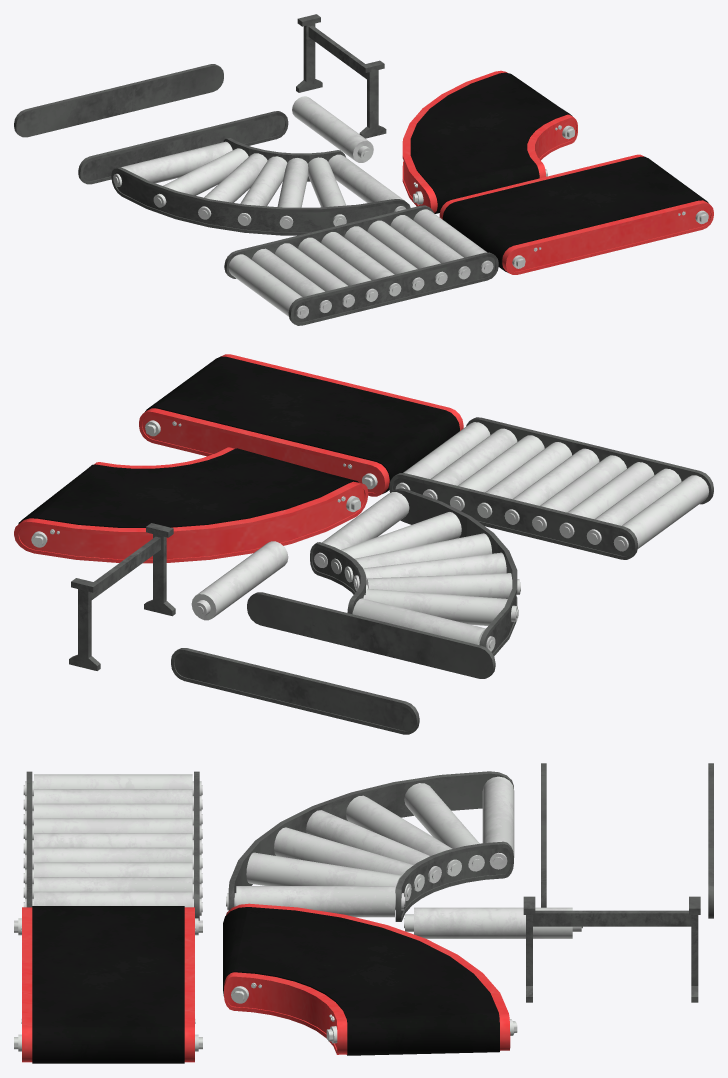
The model's file is poppy_playtime_chapter_1__conveyorbelt.glb.
3 renders of one model, top to bottom at view 1: azimuth 30°, elevation 25°; view 2: azimuth 150°, elevation 25°; view 3: azimuth 270°, elevation 25°, orthographic. The views are drawn at different scales.
Parts seen in each view (by area): view 1: conveyorbelt.mo, conveyorbelt_b.mo, conveyorbelt_b_corner.mo, conveyorbelt_corner.mo, conveyorbelt_b_seperate_rail.mo, conveyorbelt_support.mo, conveyorbelt_b_seperate_roller.mo; view 2: conveyorbelt_corner.mo, conveyorbelt_b.mo, conveyorbelt.mo, conveyorbelt_b_corner.mo, conveyorbelt_b_seperate_rail.mo, conveyorbelt_support.mo, conveyorbelt_b_seperate_roller.mo; view 3: conveyorbelt_corner.mo, conveyorbelt_b_corner.mo, conveyorbelt.mo, conveyorbelt_b.mo, conveyorbelt_support.mo, conveyorbelt_b_seperate_roller.mo, conveyorbelt_b_seperate_rail.mo.
Boxes of the visible parts, x1,y1,x2,y2 form: conveyorbelt.mo: [439, 154, 713, 274]; conveyorbelt_b.mo: [224, 205, 498, 325]; conveyorbelt_b_corner.mo: [111, 138, 410, 235]; conveyorbelt_corner.mo: [402, 70, 577, 213]; conveyorbelt_b_seperate_rail.mo: [14, 64, 288, 184]; conveyorbelt_support.mo: [296, 14, 386, 138]; conveyorbelt_b_seperate_roller.mo: [292, 96, 373, 162]; conveyorbelt_corner.mo: [14, 447, 368, 563]; conveyorbelt_b.mo: [389, 417, 713, 559]; conveyorbelt.mo: [139, 354, 463, 496]; conveyorbelt_b_corner.mo: [310, 488, 520, 656]; conveyorbelt_b_seperate_rail.mo: [171, 592, 495, 734]; conveyorbelt_support.mo: [69, 523, 175, 670]; conveyorbelt_b_seperate_roller.mo: [191, 541, 288, 620]; conveyorbelt_corner.mo: [223, 903, 517, 1055]; conveyorbelt_b_corner.mo: [226, 771, 514, 921]; conveyorbelt.mo: [14, 906, 202, 1063]; conveyorbelt_b.mo: [23, 771, 202, 920]; conveyorbelt_support.mo: [523, 896, 700, 1002]; conveyorbelt_b_seperate_roller.mo: [404, 907, 582, 938]; conveyorbelt_b_seperate_rail.mo: [541, 763, 713, 918].
Size of the model in its own units: 3.65 by 0.5691 by 3.9.
16 materials, 16 textured.
